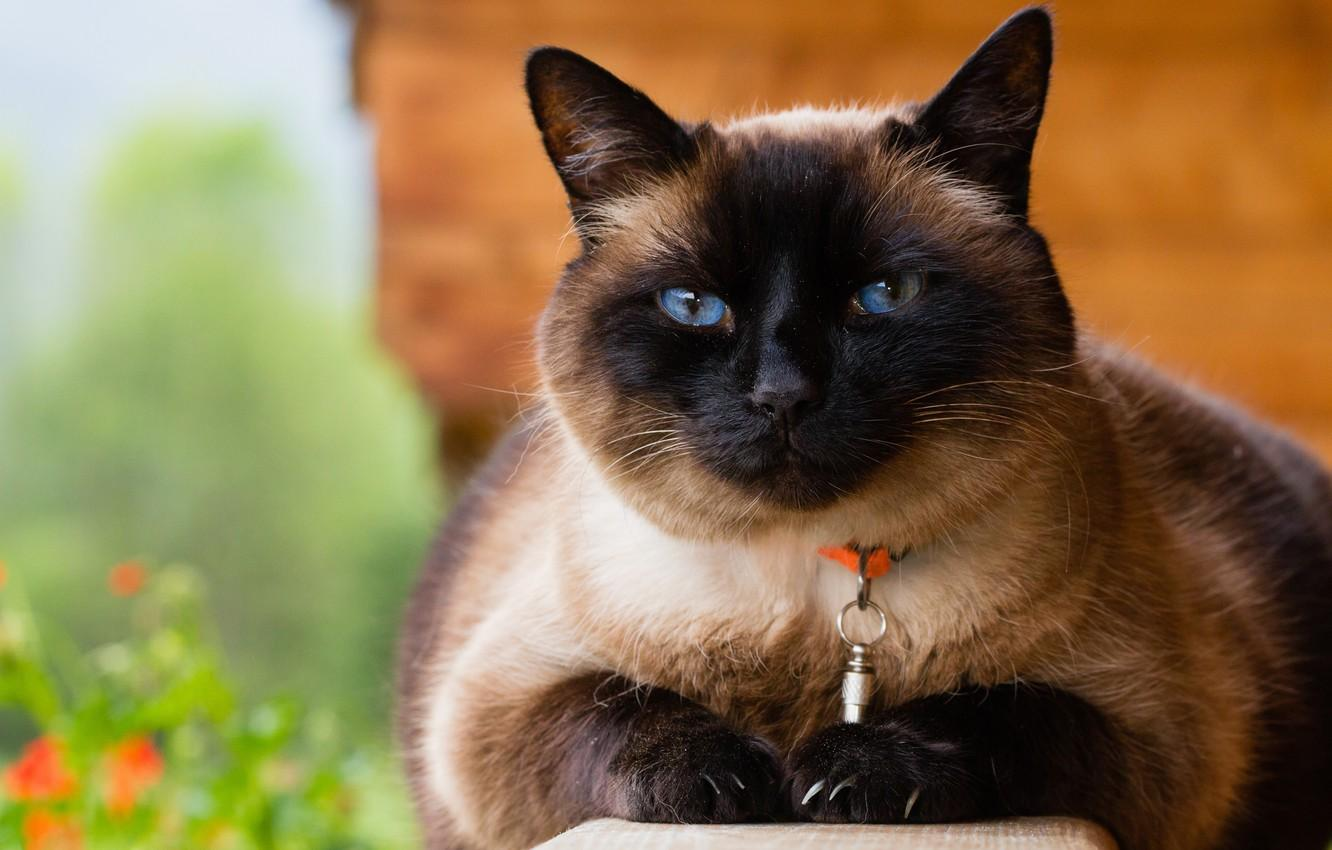siamese: (506, 1, 1079, 545)
